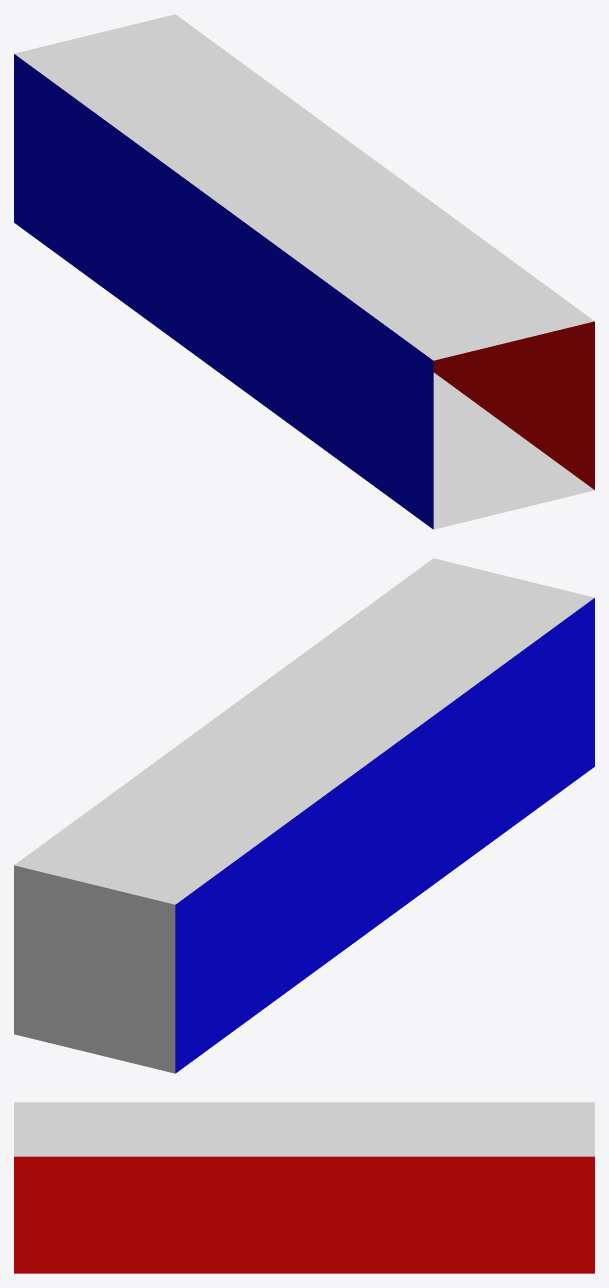
The model's file is statue.glb.
3 renders of one model, top to bottom at view 1: azimuth 30°, elevation 25°; view 2: azimuth 150°, elevation 25°; view 3: azimuth 270°, elevation 25°, orthographic. The views are drawn at different scales.
Parts seen in each view (by area): view 1: Plane.001, Plane.003, Plane.002; view 2: Plane.001, Plane.003; view 3: Plane.002, Plane.001.
Boxes of the visible parts, box(x1,y1,x2,y2) form: Plane.001: box(14, 14, 594, 529); Plane.003: box(14, 54, 433, 529); Plane.002: box(433, 321, 594, 489); Plane.001: box(14, 558, 594, 1073); Plane.003: box(175, 598, 594, 1073); Plane.002: box(14, 1156, 594, 1273); Plane.001: box(14, 1102, 594, 1156).
Size of the model in its own units: 2 by 2 by 9.
